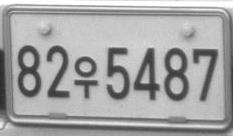2: (46, 44, 70, 99)
4: (133, 47, 160, 101)
5: (105, 46, 130, 100)
7: (192, 47, 219, 102)
8: (162, 47, 190, 101), (16, 44, 42, 97)
우: (73, 55, 99, 98)
